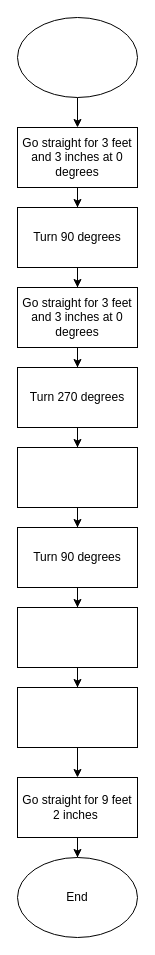
This 155x955 diagram has some shape labels left out. The shapes that lost their labels are listed below. From the top down, each one's centre as x and y in pixels, then its label:
the point at 77,57: Start
the point at 77,477: Go straight for 3 feet and 10 inches
the point at 77,637: Go straight for 7 feet and 5 inches
the point at 77,717: Turn 135 degrees
